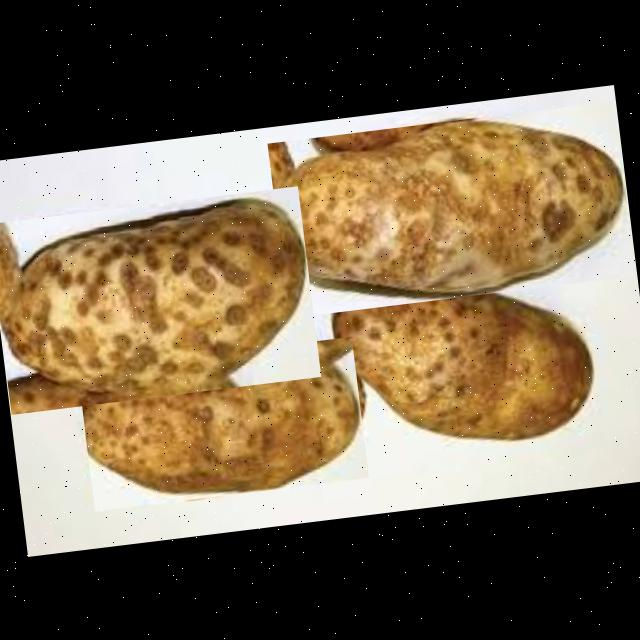Diseased-fungal potato: (266, 100, 633, 317), (0, 184, 319, 413), (324, 263, 598, 463), (76, 335, 368, 510)
